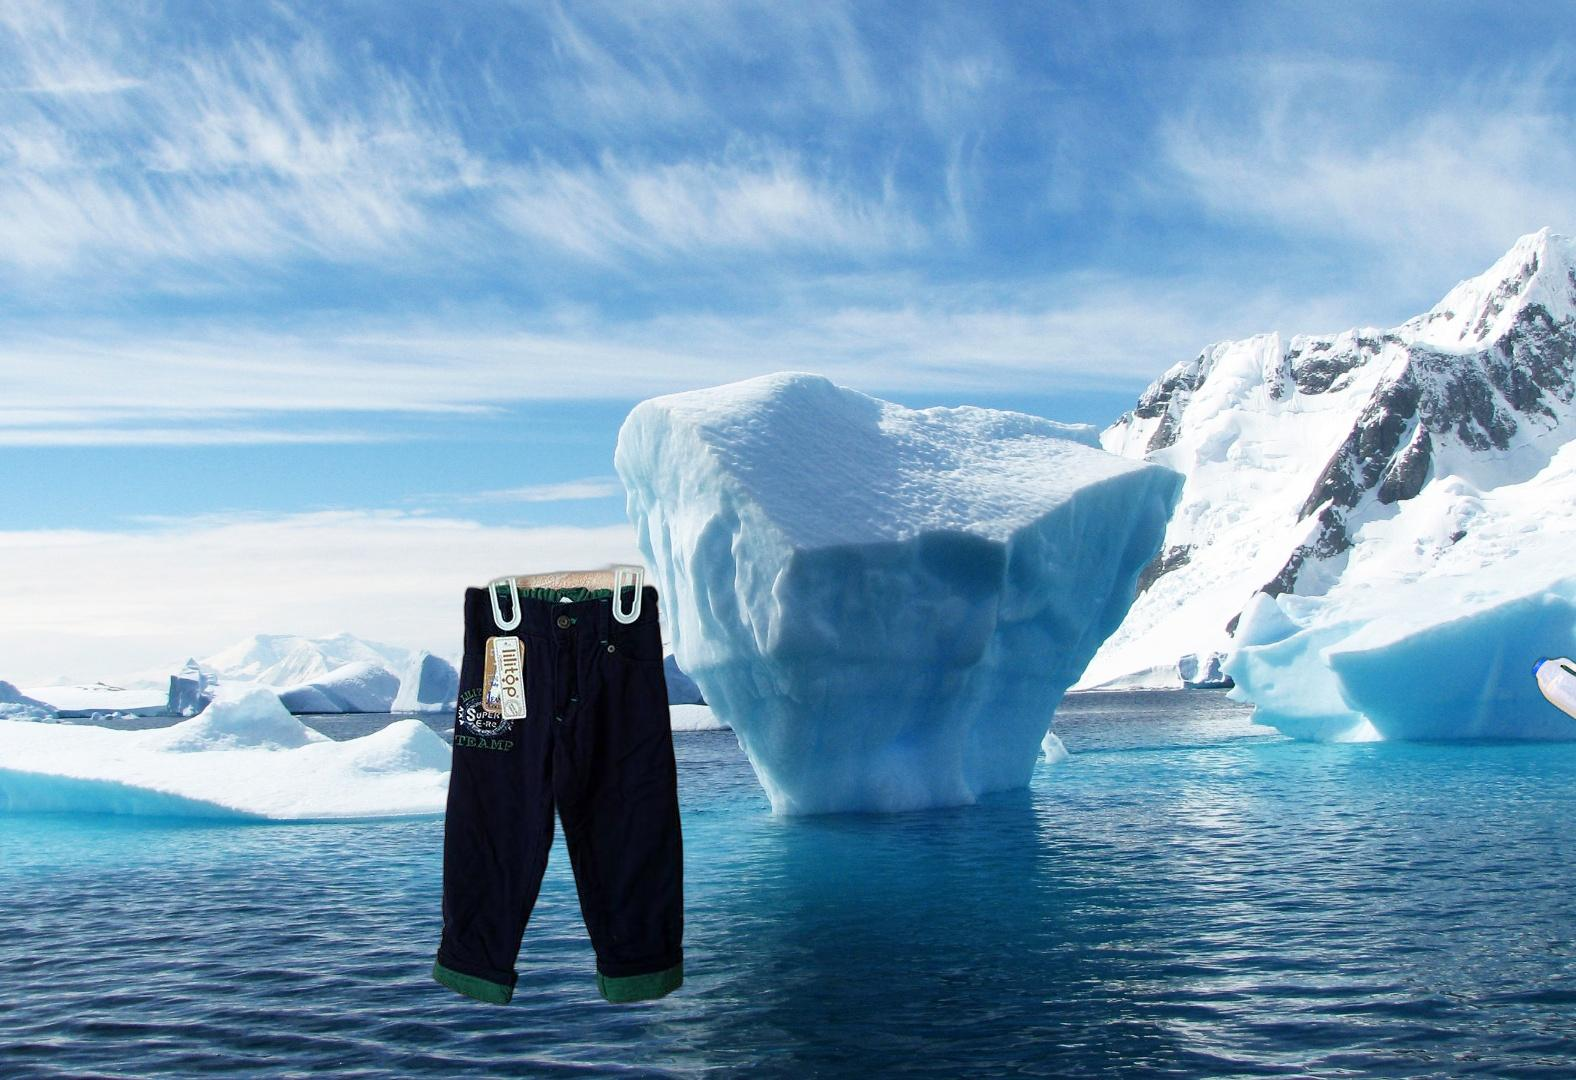clothes: (429, 559, 687, 1011)
plastic-bottles: (1528, 653, 1576, 760)
